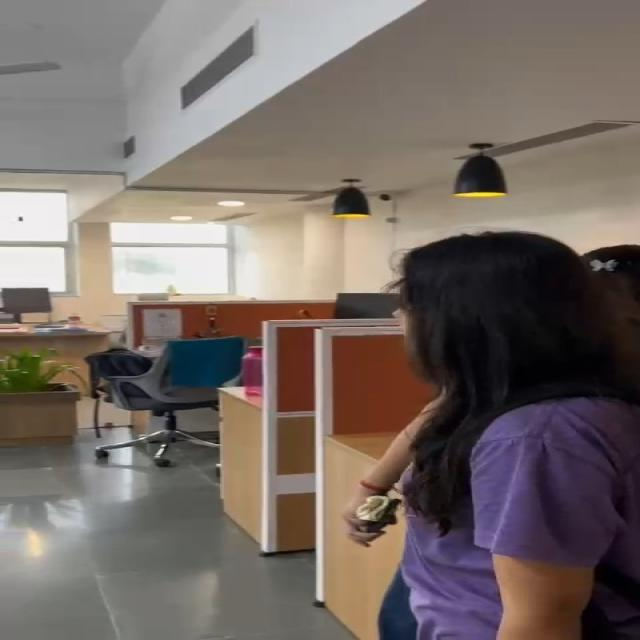floor: (0, 439, 202, 640)
furniture: (97, 331, 240, 451), (0, 347, 84, 440), (0, 261, 87, 335)
moving_object: (376, 236, 640, 640)
wall: (99, 17, 640, 229)
